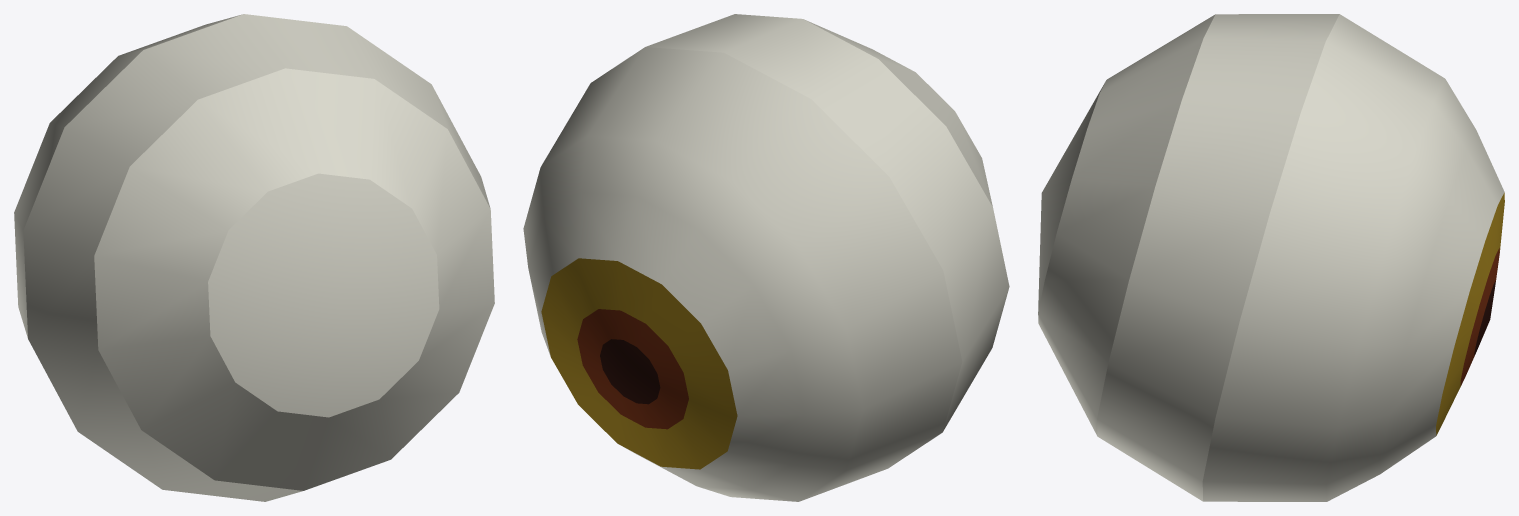
The model's file is eye2 animation.fbx.
The picture shows the model from 3 angles, left to right: view 1: azimuth 30°, elevation 25°; view 2: azimuth 150°, elevation 25°; view 3: azimuth 270°, elevation 25°; orthographic projection.
Visible parts, largest first — view 1: eye2; view 2: eye2; view 3: eye2.
Boxes of the visible parts, x1,y1,x2,y2 form: eye2: (14, 14, 494, 501); eye2: (523, 14, 1009, 501); eye2: (1038, 14, 1504, 501).
Size of the model in its own units: 157 by 157 by 148.
1 material, 1 textured.
